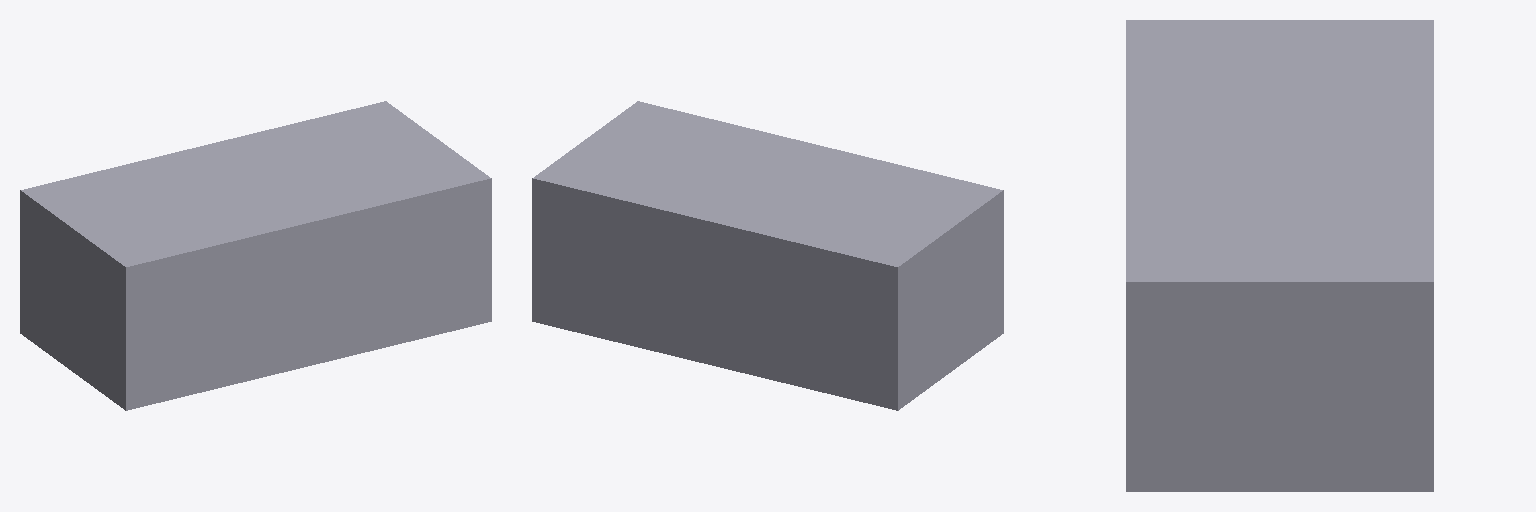
robot.urdf — workpiece_obstacle:
<?xml version="1.0"?>
<robot name="workpiece_obstacle">

  <link name="base_link">
    <visual>
      <origin xyz="0 0 0" rpy="0 0 0"/>
      <geometry>
        <box size="0.80 0.40 0.30"/>
      </geometry>
      <material name="steel">
        <color rgba="0.7 0.7 0.75 1"/>
      </material>
    </visual>
    <collision>
      <origin xyz="0 0 0" rpy="0 0 0"/>
      <geometry>
        <box size="0.80 0.40 0.30"/>
      </geometry>
    </collision>
    <inertial>
      <mass value="25.0"/>
      <origin xyz="0 0 0" rpy="0 0 0"/>
      <inertia ixx="0.5208" ixy="0.0" ixz="0.0"
               iyy="1.5208" iyz="0.0"
               izz="1.6667"/>
    </inertial>
  </link>

</robot>

--- What the picture shows (computed from the rendered views, not written in the file) ---
3 views of the same robot in one strip: view 1: azimuth 30°, elevation 25°; view 2: azimuth 150°, elevation 25°; view 3: azimuth 270°, elevation 25° (orthographic).
Robot: workpiece_obstacle — 1 links, 0 joints (none); root link base_link; default pose: every joint at zero.
Visible links, largest first — view 1: base_link; view 2: base_link; view 3: base_link.
Boxes of the visible links, x1,y1,x2,y2 form: base_link: (20,101,491,410); base_link: (532,101,1003,410); base_link: (1126,20,1433,491).
Bounding box of the posed robot: 0.8 × 0.4 × 0.3 m (x, y, z).
Geometry: primitives only (box / cylinder / sphere), no mesh files.
